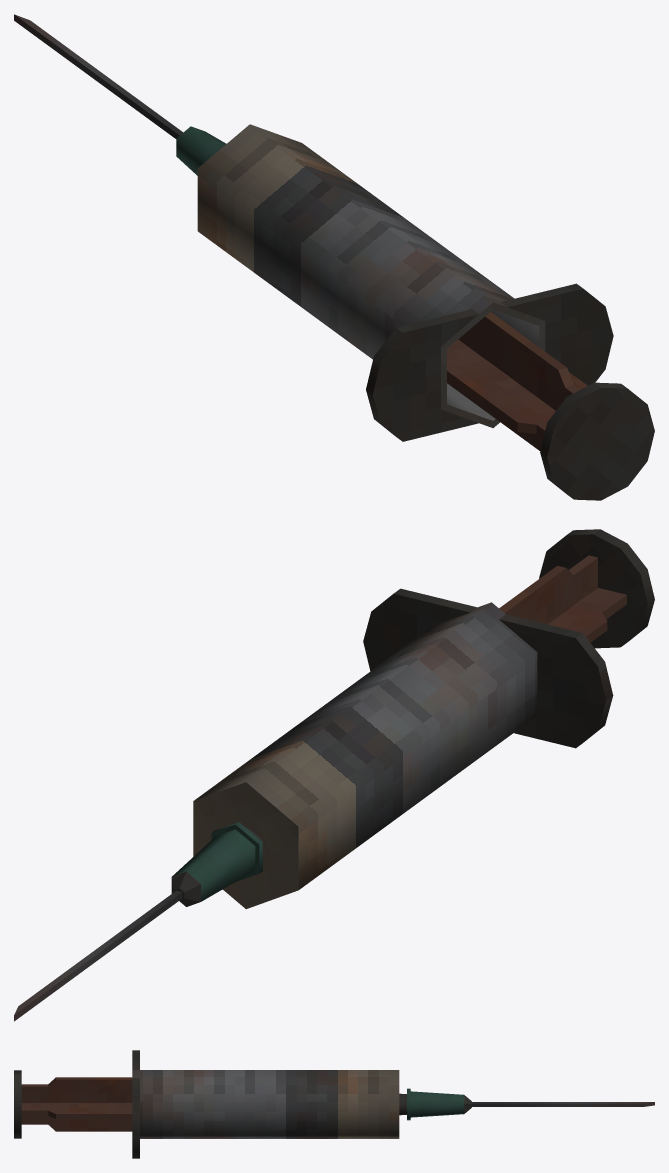
File: syringe_mp_1.glb
3 renders of one model, top to bottom at view 1: azimuth 30°, elevation 25°; view 2: azimuth 150°, elevation 25°; view 3: azimuth 270°, elevation 25°, orthographic. The views are drawn at different scales.
Visible parts, largest first — view 1: syringe_mp_1; view 2: syringe_mp_1; view 3: syringe_mp_1.
Boxes of the visible parts, x1=… form: syringe_mp_1: x1=14, y1=14, x2=654, y2=500; syringe_mp_1: x1=14, y1=529, x2=654, y2=1021; syringe_mp_1: x1=14, y1=1050, x2=654, y2=1158.
Bounding box in the file's own units: 0.04 × 0.02 × 0.168.
Materials: 1 (1 with a texture image).
